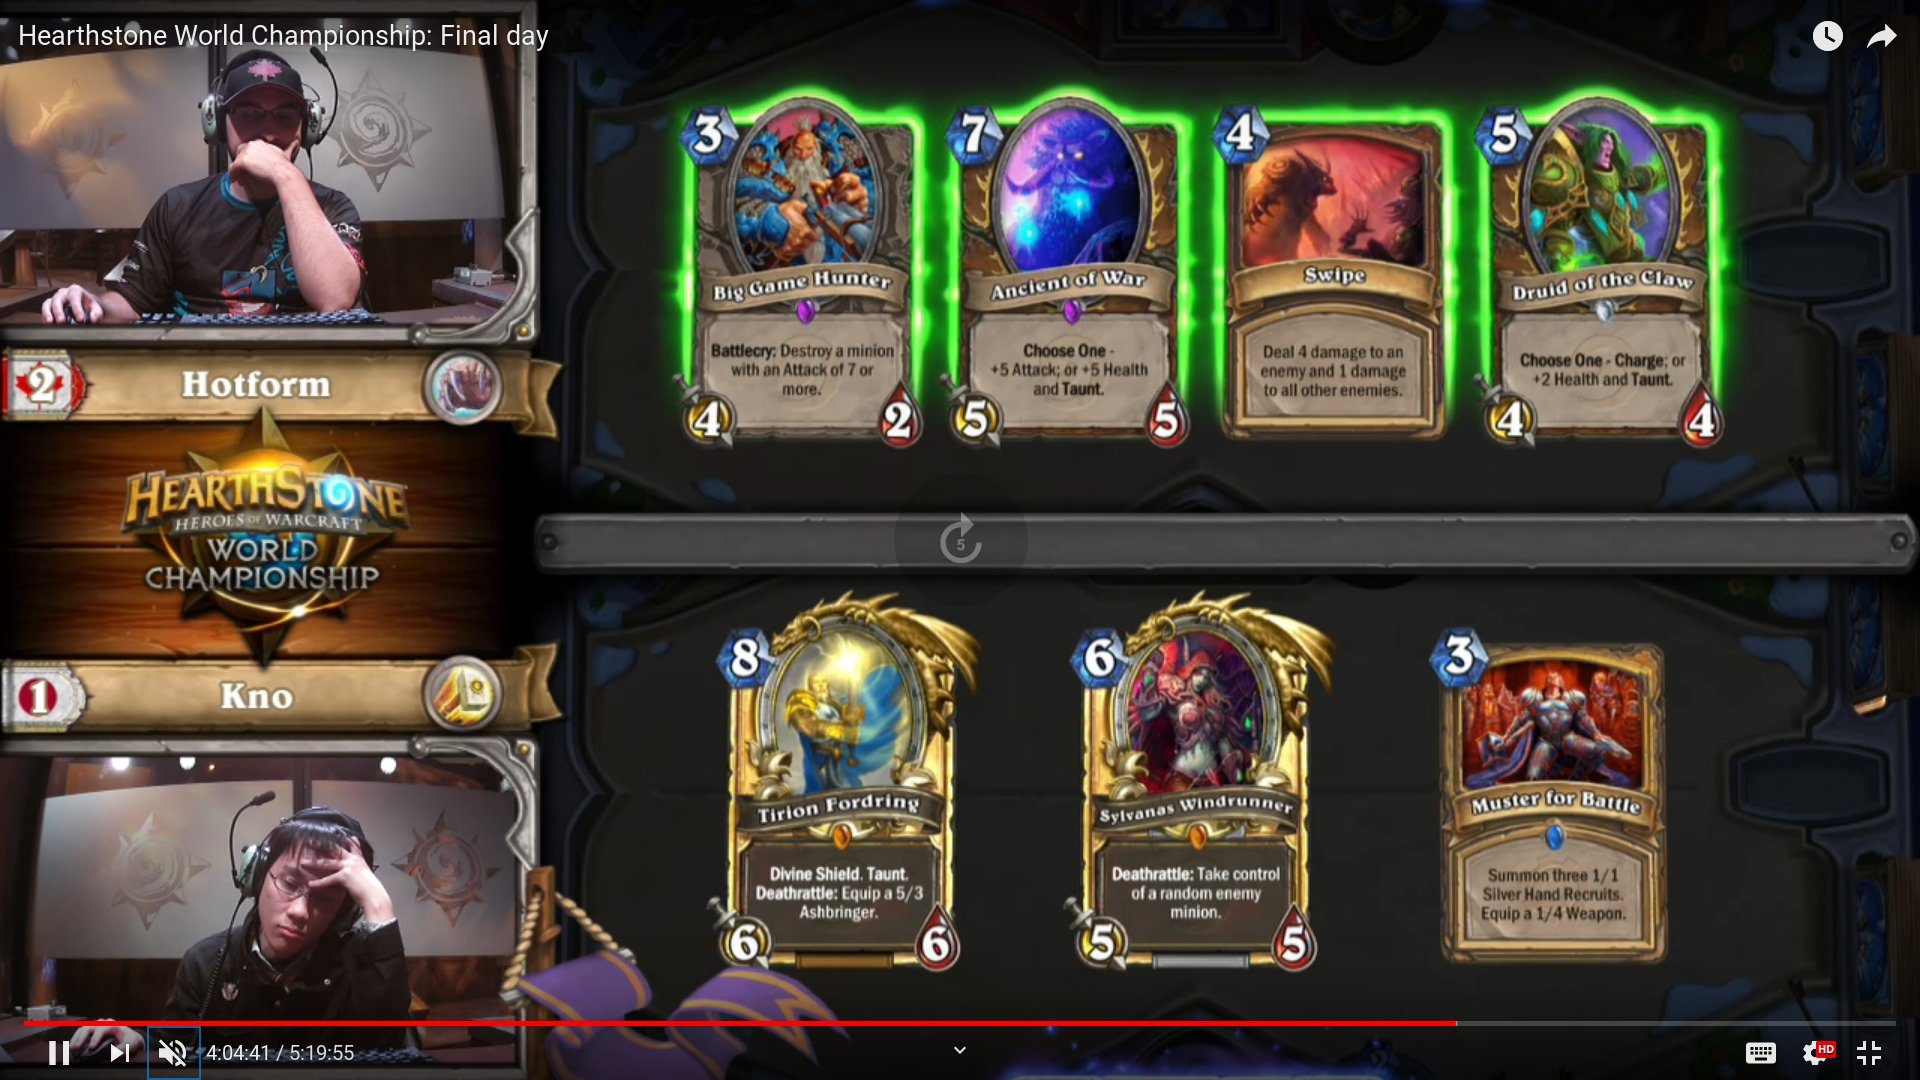card: (1076, 589, 1342, 972), (709, 593, 975, 976), (674, 82, 932, 444), (942, 82, 1199, 444), (1437, 618, 1673, 971), (1484, 91, 1718, 443), (1209, 103, 1452, 440)
